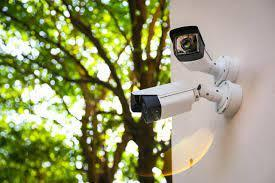camera: (163, 8, 250, 81), (114, 70, 211, 127)
